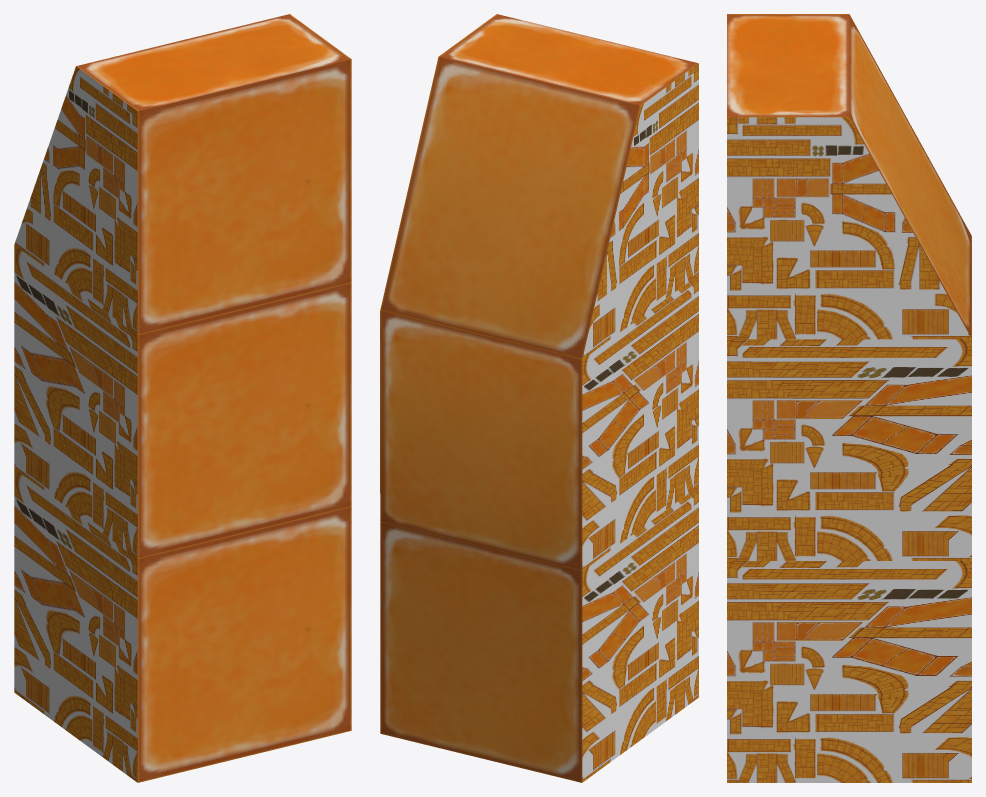
File: border.FBX
3 views of the same model, side by side, from view 1: azimuth 30°, elevation 25°; view 2: azimuth 150°, elevation 25°; view 3: azimuth 270°, elevation 25° (orthographic). The views are drawn at different scales.
Visible parts, largest first — view 1: hoge-muur; view 2: hoge-muur; view 3: hoge-muur.
Part boxes in pixels (bbox=[...]): hoge-muur: bbox=[14, 14, 351, 782]; hoge-muur: bbox=[380, 14, 698, 782]; hoge-muur: bbox=[727, 14, 971, 782].
Size of the model in its own units: 100 by 300 by 100.
